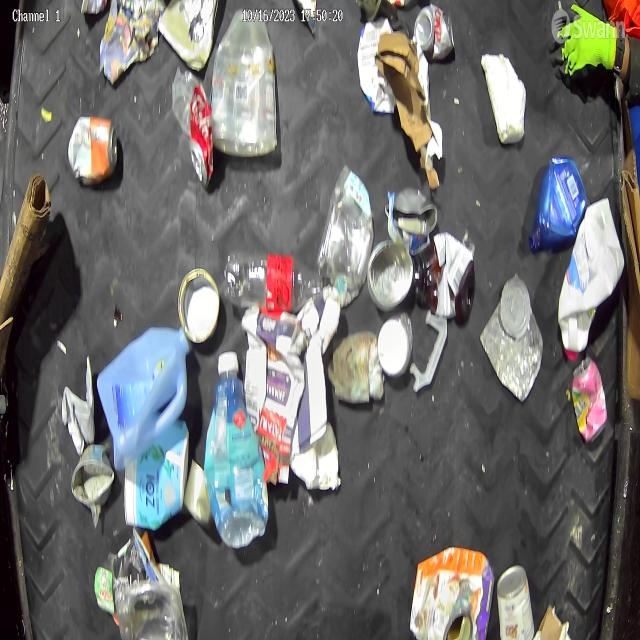can: (368, 236, 414, 309), (67, 120, 118, 184), (386, 187, 440, 240), (497, 565, 535, 640), (188, 84, 214, 182), (415, 8, 452, 66)
non_white_jug: (94, 323, 188, 467), (207, 353, 270, 538), (530, 152, 588, 260)
plastic_bottle: (228, 249, 333, 319)
